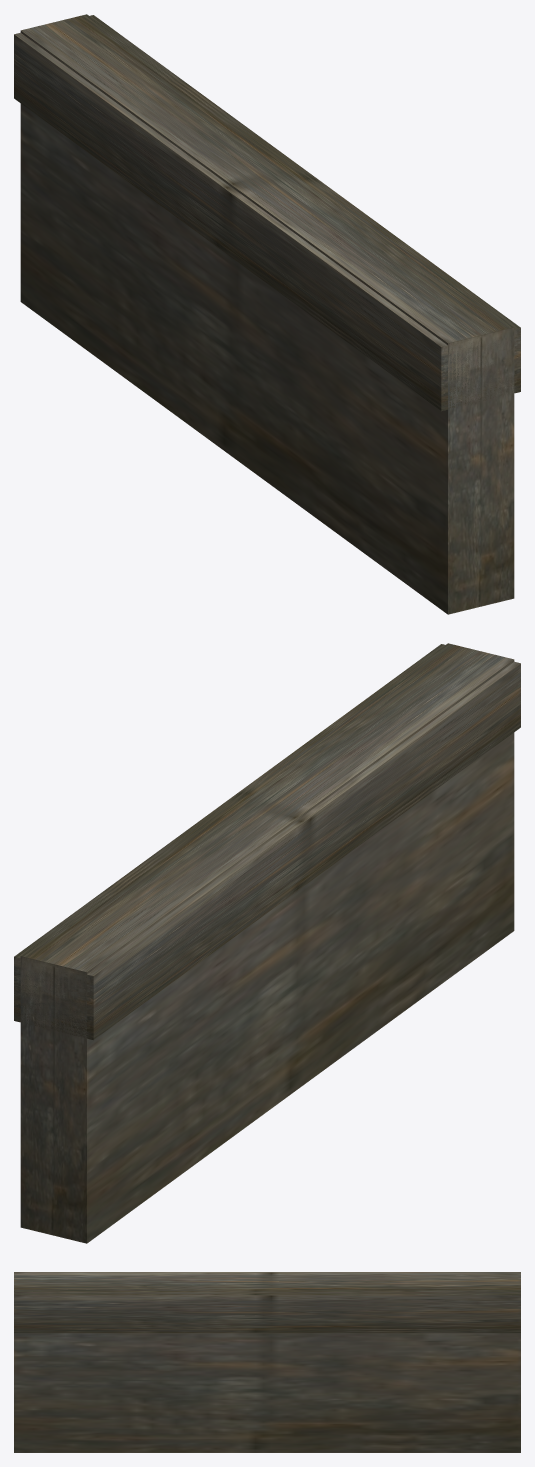
Rendered from divider.glb.
The picture shows the model from 3 angles, top to bottom: view 1: azimuth 30°, elevation 25°; view 2: azimuth 150°, elevation 25°; view 3: azimuth 270°, elevation 25°; orthographic projection. The views are drawn at different scales.
Visible parts, largest first — view 1: divider.ms3d.mo; view 2: divider.ms3d.mo; view 3: divider.ms3d.mo.
Part boxes in pixels (x1,y1,x2,y2): divider.ms3d.mo: (14,14,520,614); divider.ms3d.mo: (14,643,520,1243); divider.ms3d.mo: (14,1272,520,1452).
Size of the model in its own units: 6.37 by 20.75 by 59.22.
1 material, 1 textured.
